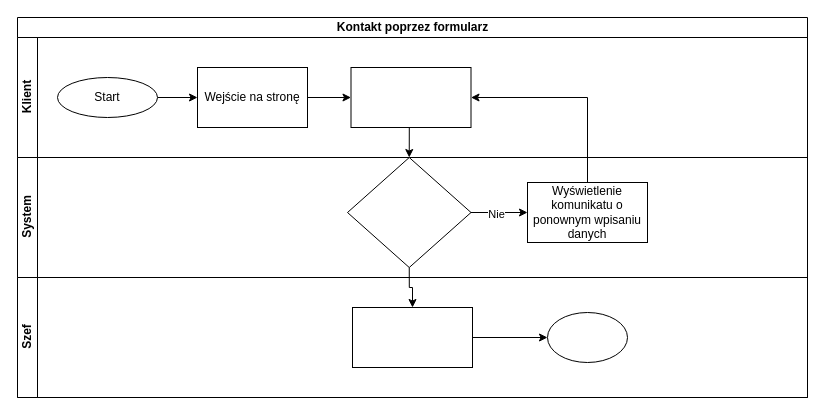
Some shapes in this 825 by 415 pixel diagram are drawn without their labels. Here are the shapes that lost their labels. From the top down, the box of each, then its label:
(350, 66, 471, 128): Zatwierdzenie przyciskiem ,,wyślij wiadomość"
(346, 156, 471, 268): Poprawne podanie danych kontaktowych
(352, 306, 472, 368): Odebranie danych kontaktowych
(546, 312, 628, 362): Stop
